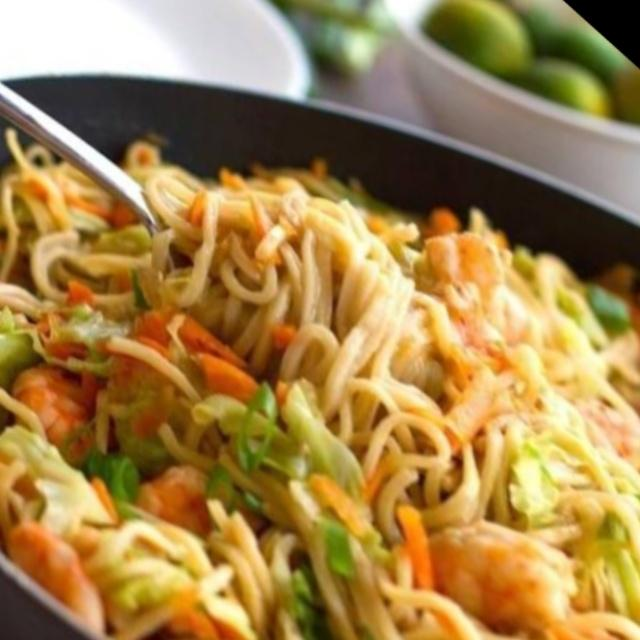pancit bihon: (2, 154, 639, 639)
